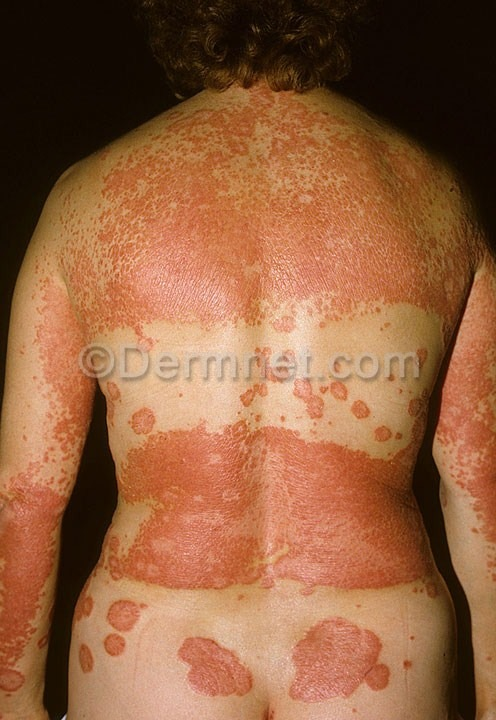Psoriasis: (121, 105, 455, 335), (120, 412, 429, 609), (27, 233, 135, 437), (432, 287, 496, 548), (1, 460, 62, 683), (289, 616, 410, 710), (242, 347, 392, 421), (61, 553, 133, 684), (165, 626, 265, 705)
